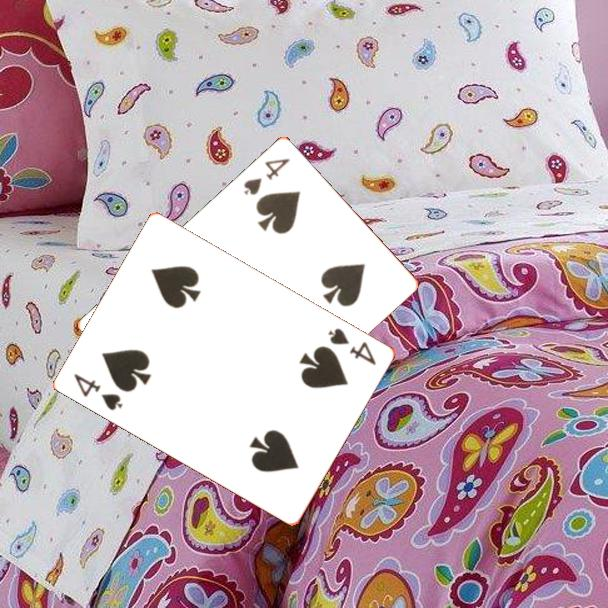s04: (325, 324, 380, 368), (71, 370, 127, 413), (240, 154, 293, 198)
